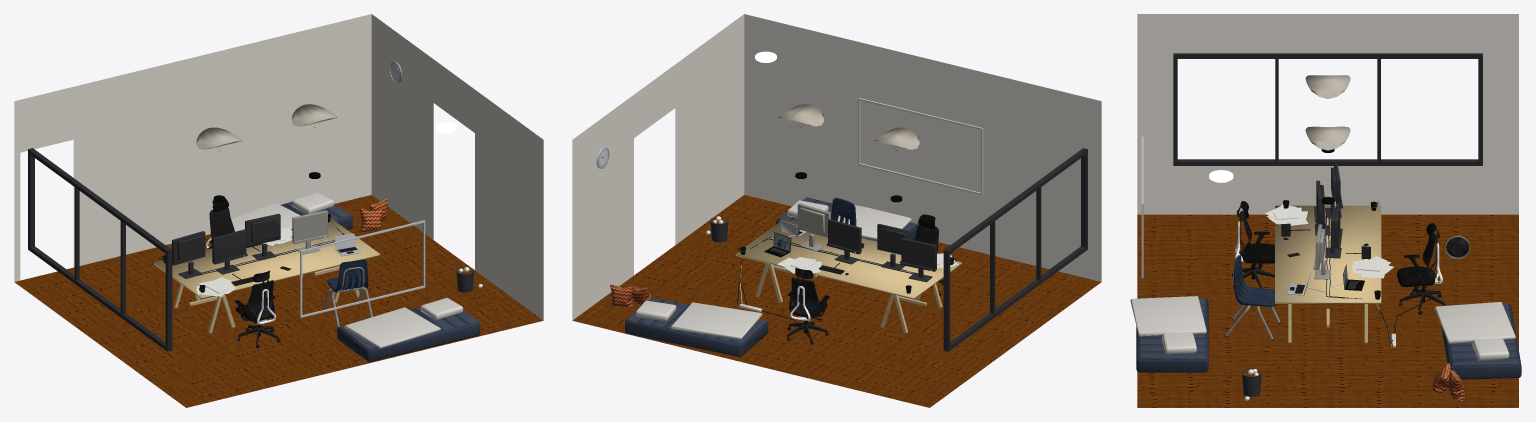
The model's file is set7.glb.
3 views of the same model, side by side, from view 1: azimuth 30°, elevation 25°; view 2: azimuth 150°, elevation 25°; view 3: azimuth 270°, elevation 25° (orthographic). The views are drawn at different scales.
Parts seen in each view (by area): view 1: Static; view 2: Static; view 3: Static.
Boxes of the visible parts, x1,y1,x2,y2 form: Static: (14,14,543,407); Static: (572,14,1101,407); Static: (1130,14,1521,407).
Bounding box in the file's own units: 6.04 × 2.9 × 5.13.
39 materials, 16 textured.
